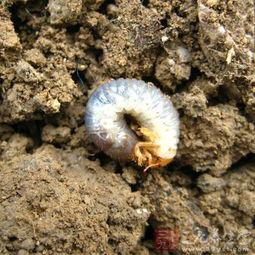grub: (84, 77, 186, 173)
